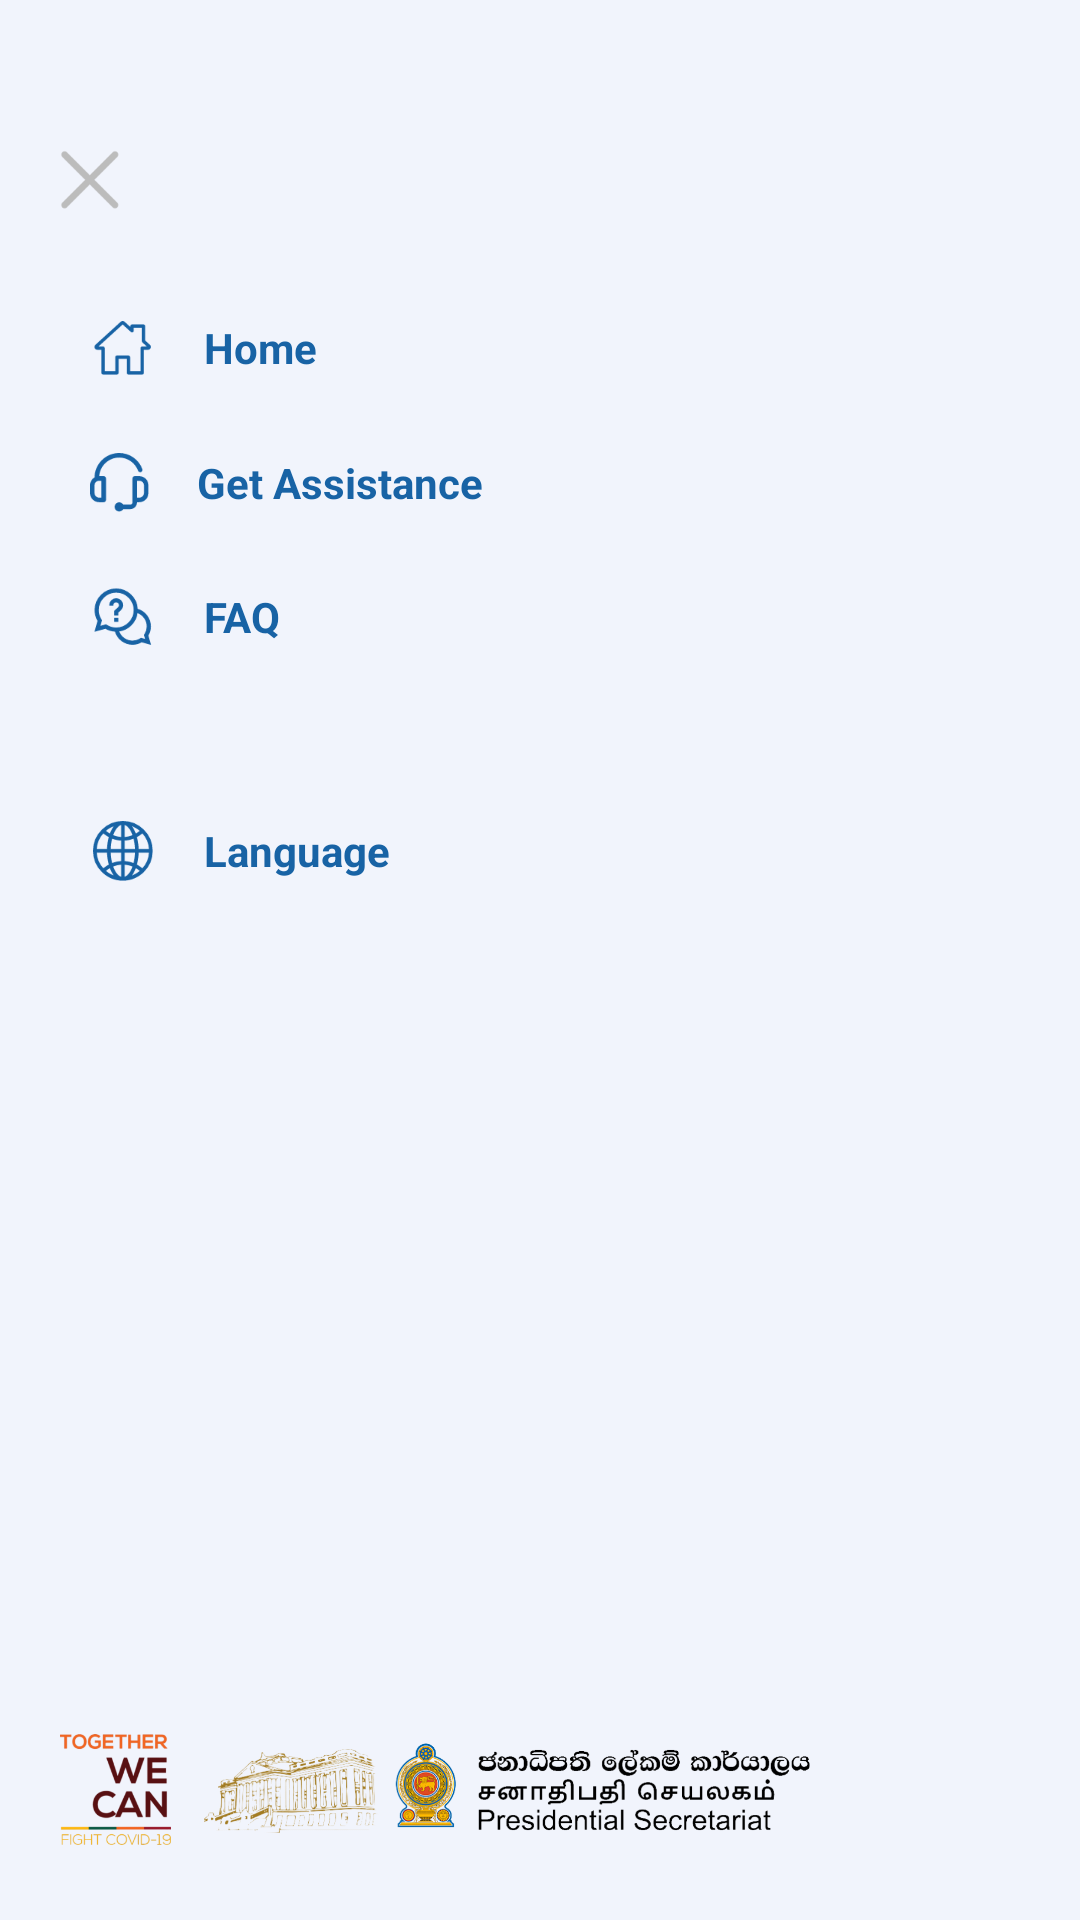

Icon bounding boxes for this 1080 x 1920 phone screenshot, format [x1, y1, x2, y2]:
close: [61, 151, 118, 208]
